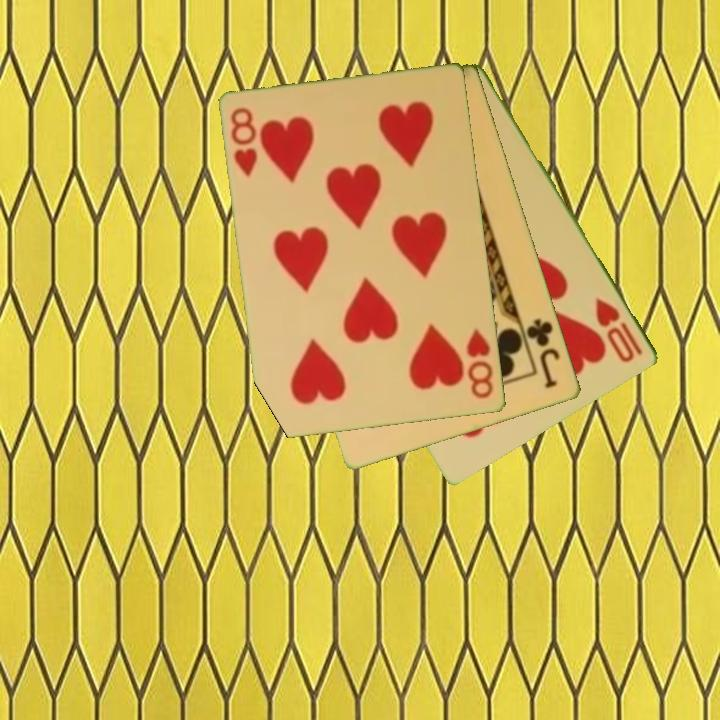10h: (592, 294, 646, 366)
8h: (463, 326, 497, 402), (227, 104, 261, 179)
Jc: (523, 315, 563, 392)
